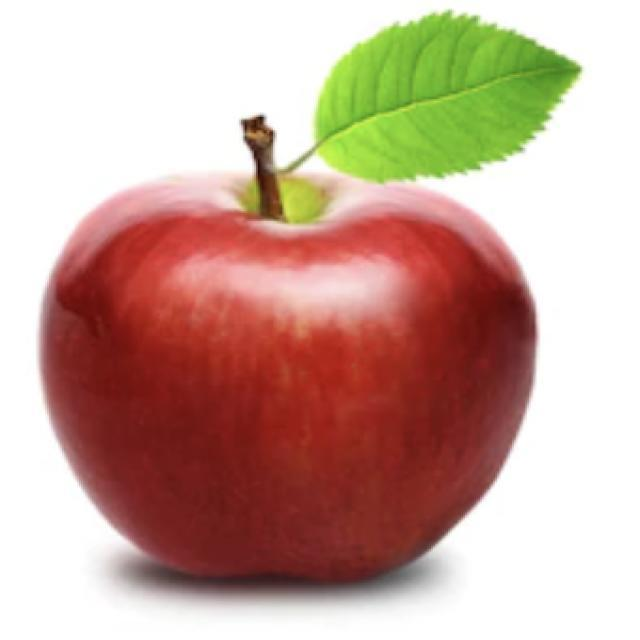Fresh Apple: (44, 163, 564, 635)
